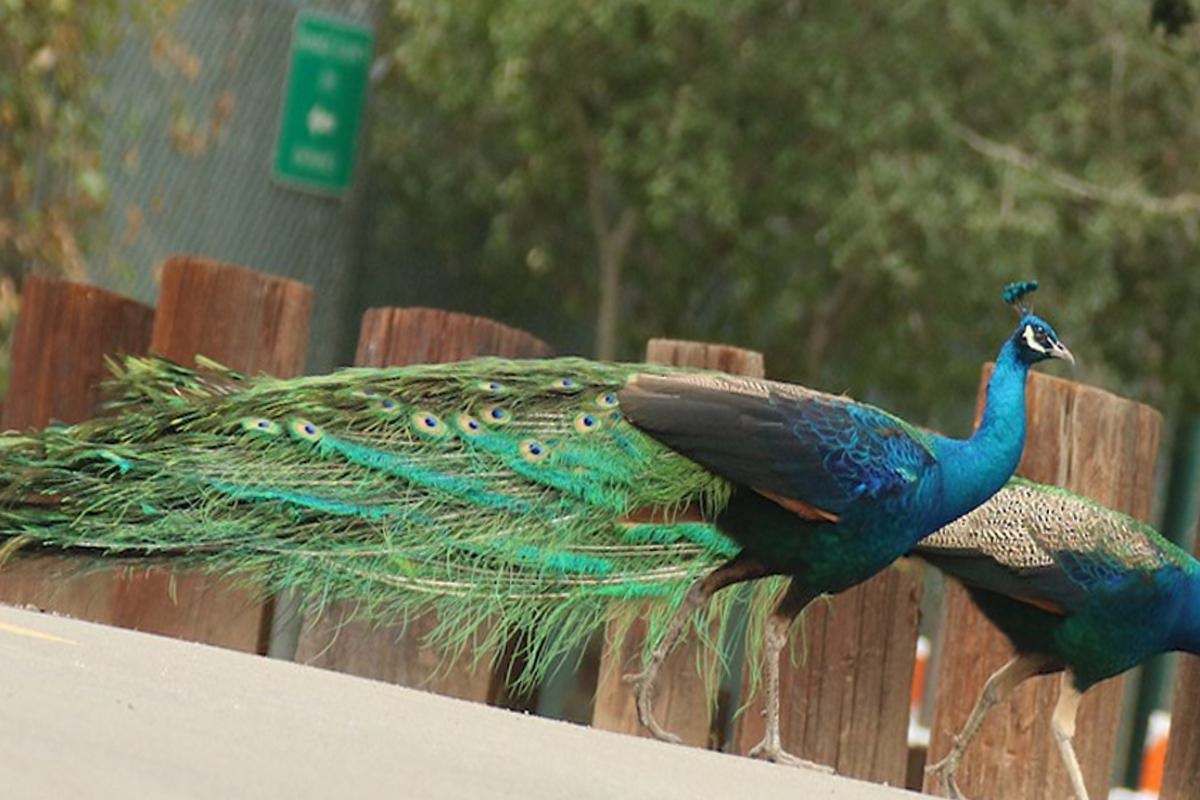peacock: (8, 276, 1141, 675)
